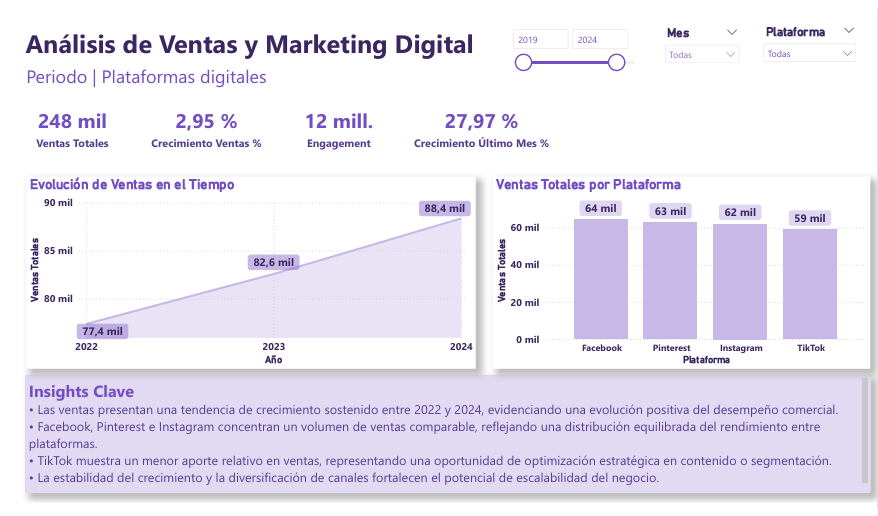

The dashboard page shown, as its layout file describes it:
{"tool":"powerbi","page":{"name":"Página 1","canvas":[1280,720],"ordinal":0},"visuals":[{"type":"card","fields":{"Values":["marketing_analytics.Ventas Totales"]},"box":[14.3,117.3,148.7,94.4],"z":0},{"type":"card","fields":{"Values":["marketing_analytics.Engagement"]},"box":[410.5,117.3,145.9,94.4],"z":1000},{"type":"card","fields":{"Values":["marketing_analytics.Crecimiento Ventas %"]},"box":[188.8,117.3,195.9,94.4],"z":2000},{"type":"lineChart","title":"Evolución de Ventas en el Tiempo","fields":{"Y":["marketing_analytics.Ventas Totales"],"Category":["Dim_Fecha.Año"]},"box":[20,237.4,666.5,284.6],"z":3000},{"type":"columnChart","fields":{"Y":["marketing_analytics.Ventas Totales"],"Category":["marketing_analytics.Plataforma"]},"box":[710.8,237.4,559.2,284.6],"z":4000},{"type":"slicer","fields":{"Values":["Dim_Fecha.Año"]},"box":[728,9.3,215.2,98.3],"z":5000},{"type":"slicer","fields":{"Values":["Dim_Fecha.Mes"]},"box":[956,8.8,130.3,100.4],"z":6000},{"type":"slicer","fields":{"Values":["marketing_analytics.Plataforma"]},"box":[1102.2,7,156.7,100.4],"z":7000},{"type":"card","fields":{"Values":["marketing_analytics.Crecimiento Último Mes %"]},"box":[580.6,117.3,227.4,94.4],"z":8000},{"type":"textbox","box":[14.1,8.8,697.2,65.1],"z":9000},{"type":"textbox","box":[14.6,63.8,417.1,53.1],"z":10000},{"type":"textbox","box":[19.4,531.7,1251.8,174.3],"z":11000}]}

Visuals, with their boxes on the page's 1280x720 design canvas (x1, y1, x2, y2). These are canvas units, not pixel positions in the 878x516 screenshot, which may show the page scaled, cropped or inside an application window:
card - marketing_analytics.Ventas Totales: (14, 117, 163, 212)
card - marketing_analytics.Engagement: (410, 117, 556, 212)
card - marketing_analytics.Crecimiento Ventas %: (189, 117, 385, 212)
"Evolución de Ventas en el Tiempo" lineChart: (20, 237, 686, 522)
columnChart - marketing_analytics.Ventas Totales x marketing_analytics.Plataforma: (711, 237, 1270, 522)
slicer - Dim_Fecha.Año: (728, 9, 943, 108)
slicer - Dim_Fecha.Mes: (956, 9, 1086, 109)
slicer - marketing_analytics.Plataforma: (1102, 7, 1259, 107)
card - marketing_analytics.Crecimiento Último Mes %: (581, 117, 808, 212)
textbox: (14, 9, 711, 74)
textbox: (15, 64, 432, 117)
textbox: (19, 532, 1271, 706)
